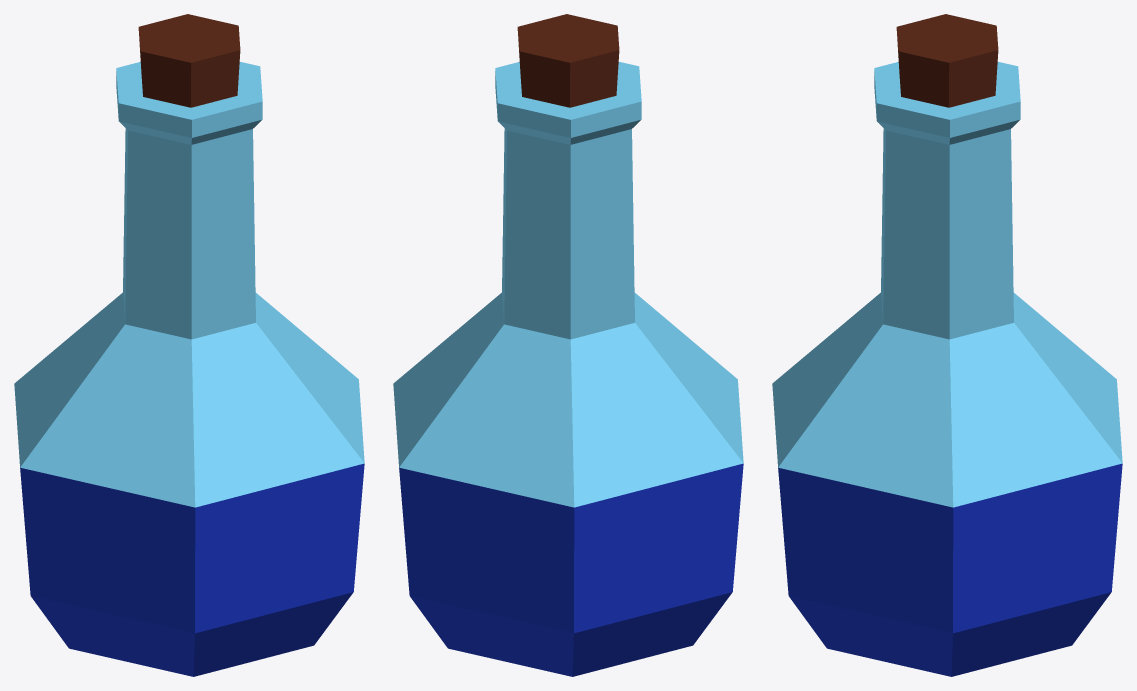
Rendered from m_BluePotion.FBX.
3 renders of one model, left to right at view 1: azimuth 30°, elevation 25°; view 2: azimuth 150°, elevation 25°; view 3: azimuth 270°, elevation 25°, orthographic.
Visible parts, largest first — view 1: Circle.001; view 2: Circle.001; view 3: Circle.001.
Part boxes in pixels (left/top/right/bottom): Circle.001: left=14, top=14, right=364, bottom=676; Circle.001: left=393, top=14, right=743, bottom=676; Circle.001: left=772, top=14, right=1122, bottom=676.
Bounding box in the file's own units: 45.15 × 72.46 × 39.76.
1 material, 1 textured.
